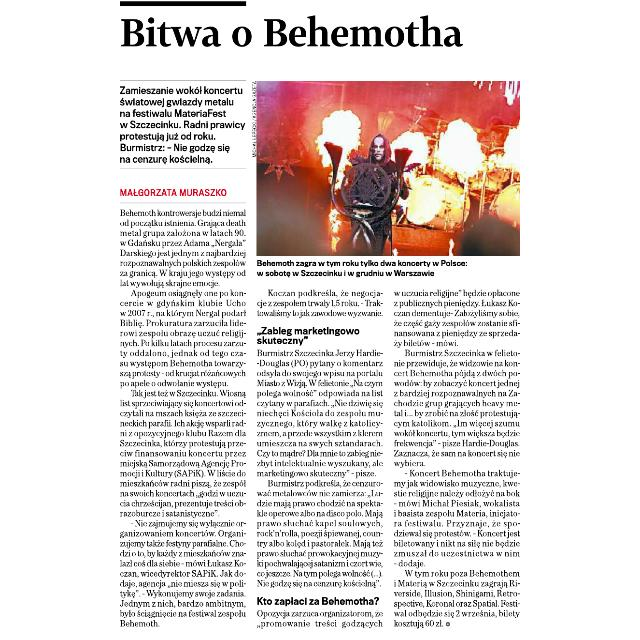author: (117, 183, 236, 201)
body: (114, 207, 252, 631), (389, 286, 527, 632), (254, 286, 386, 632)
caption: (255, 258, 480, 280)
image: (255, 79, 527, 258)
lead: (118, 82, 248, 166)
title: (119, 12, 473, 58)
